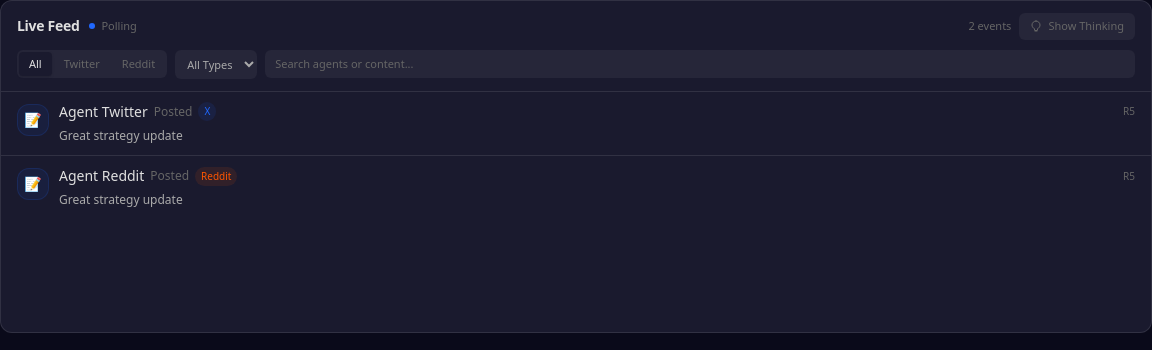
LiveFeed › filters actions by reddit platform on tab click
This screenshot has width=1152, height=350.
Click the button "Reddit". click: (138, 64)
box: [112,52,165,76]
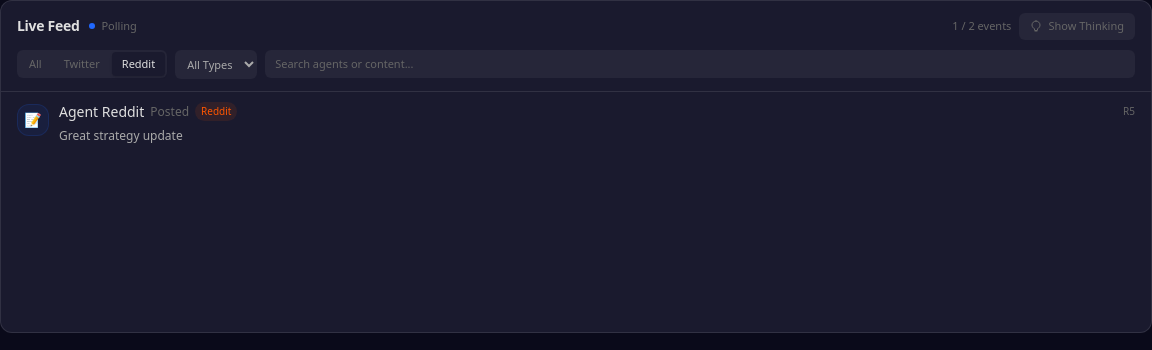
Expected: the text "Agent Reddit" is shown, [59,102,144,122]
Result: the text "Agent Twitter" is gone
